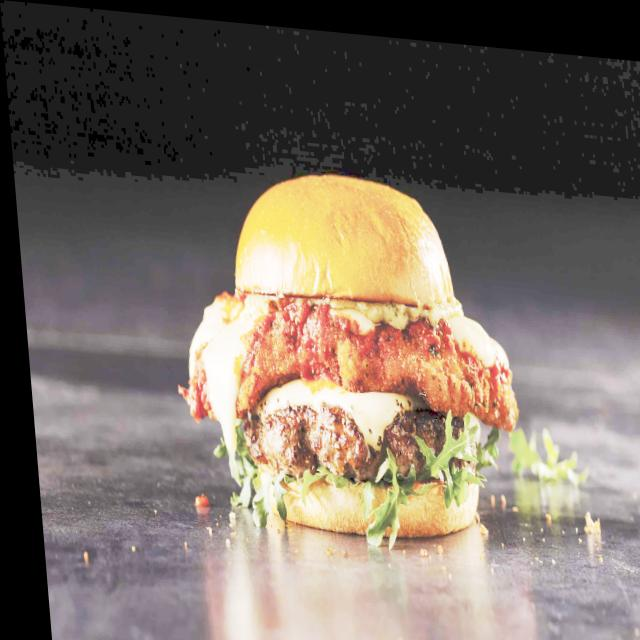burger: (153, 154, 529, 561)
